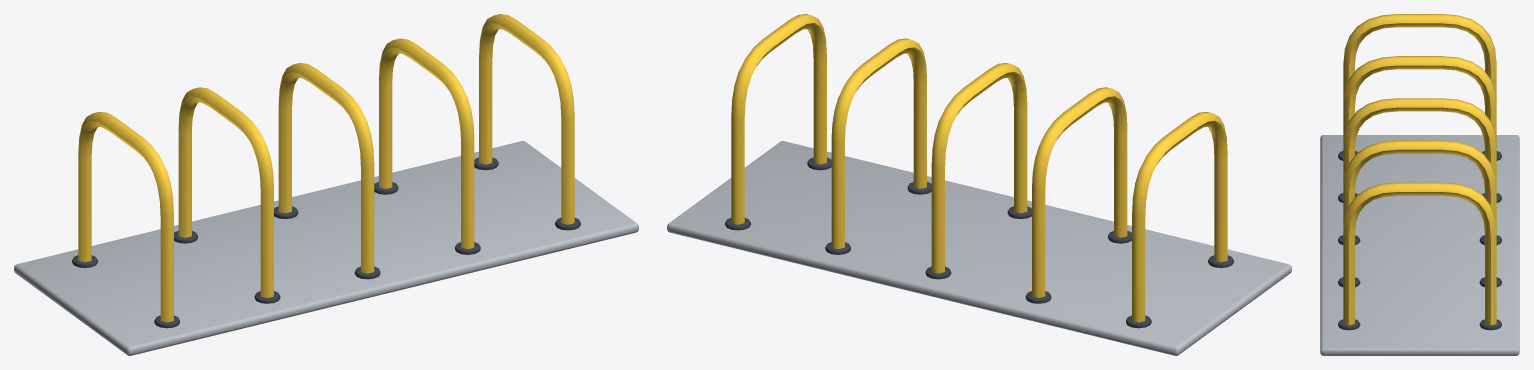
File: bicicletario.glb
3 views of the same model, side by side, from view 1: azimuth 30°, elevation 25°; view 2: azimuth 150°, elevation 25°; view 3: azimuth 270°, elevation 25° (orthographic). The views are drawn at different scales.
Parts seen in each view (by area): view 1: bicicletario; view 2: bicicletario; view 3: bicicletario.
Part boxes in pixels (x1,y1,x2,y2): bicicletario: [14, 14, 638, 355]; bicicletario: [667, 14, 1291, 355]; bicicletario: [1320, 14, 1519, 355].
Bounding box in the file's own units: 2.3 × 0.746 × 0.9.
Materials: 1 (1 with a texture image).
